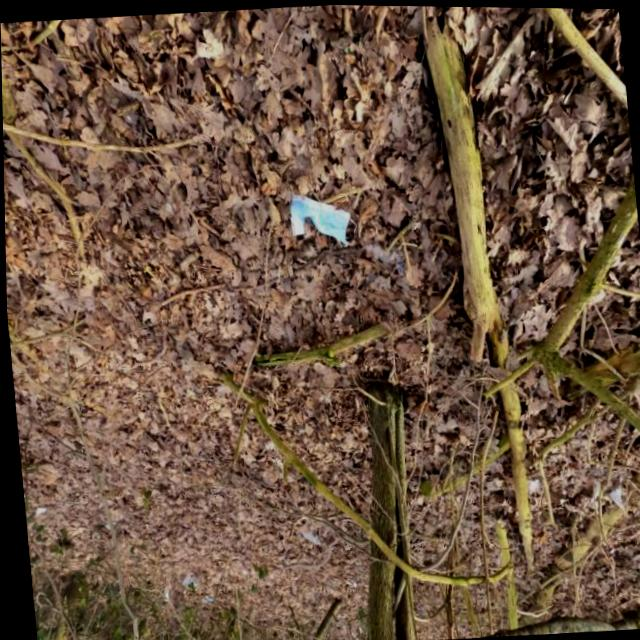Mask: (283, 186, 357, 252)
